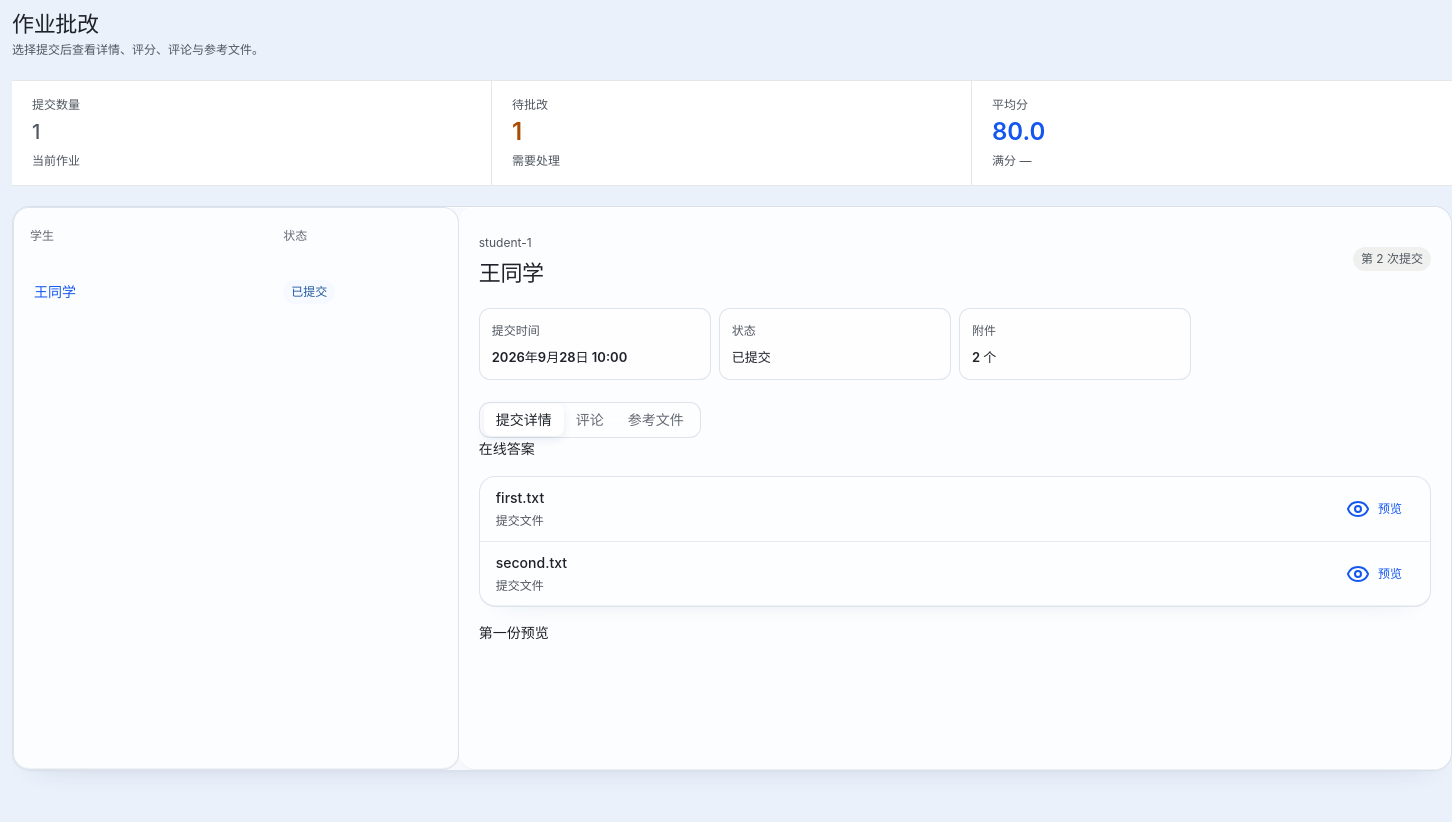
Scenario: GradingView › switches to the attachment that the user chose to preview
Expected: the text "第一份预览" is shown, [479, 626, 549, 642]
Click the button "预览" in the row of "second.txt" at (1374, 574), box [1334, 556, 1414, 592]
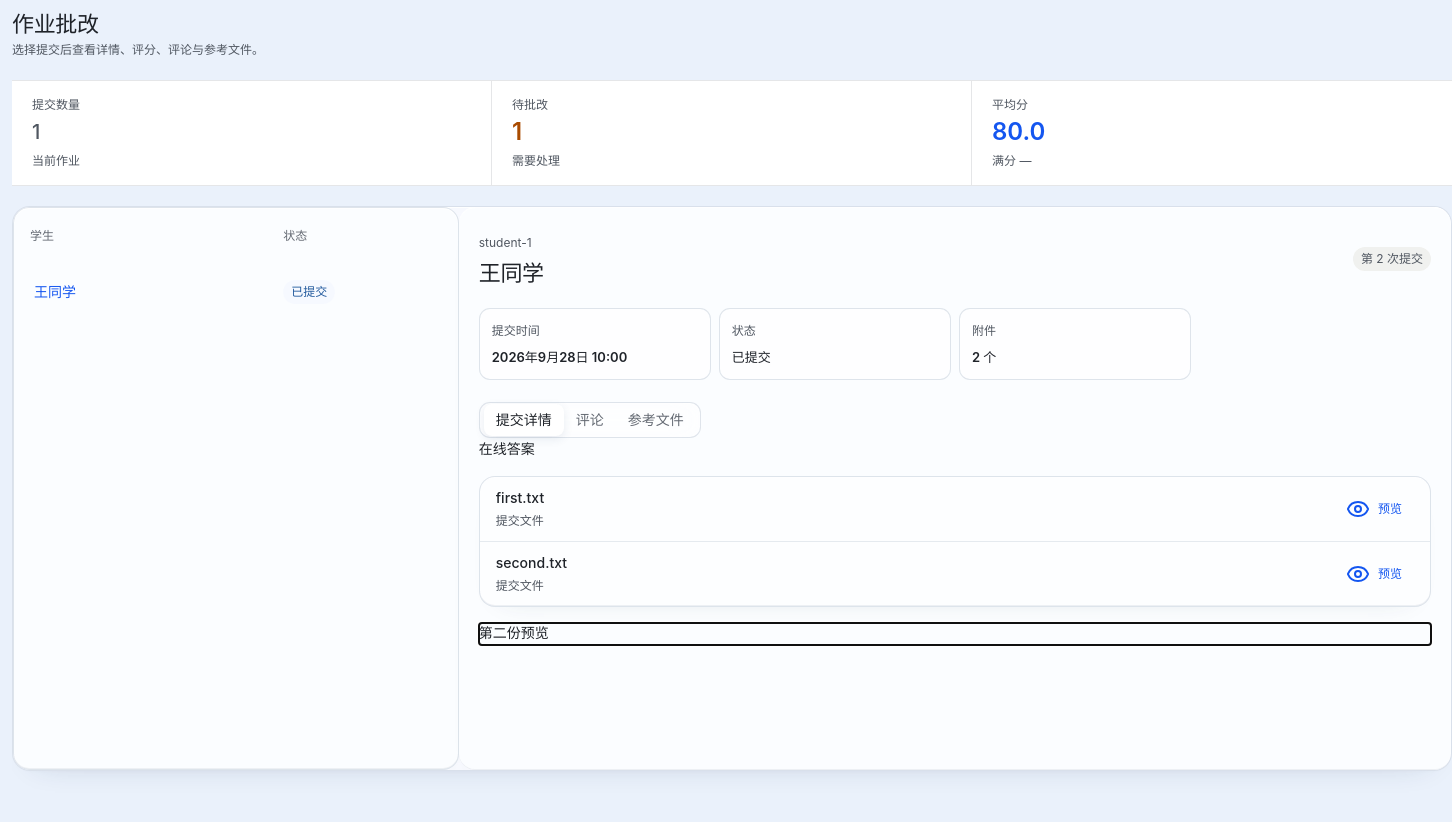
Expected: the text "第二份预览" is shown, [479, 626, 549, 642]
Expected: the text "第一份预览" is gone
